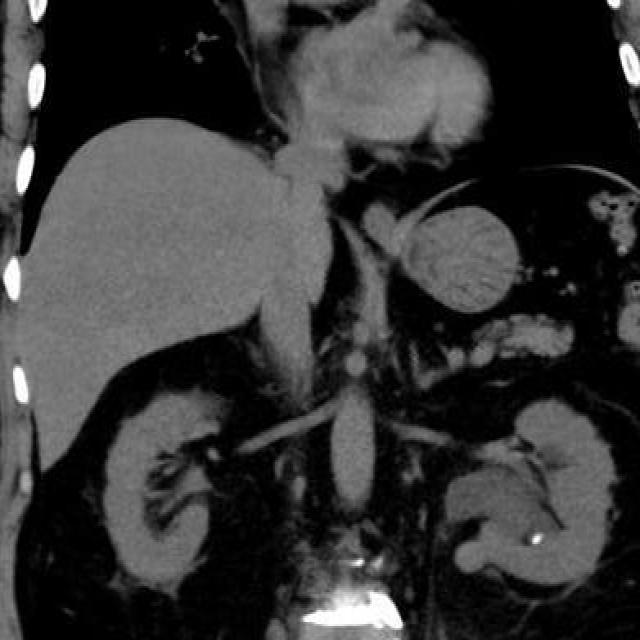Tas_Var: (528, 532, 542, 546)
